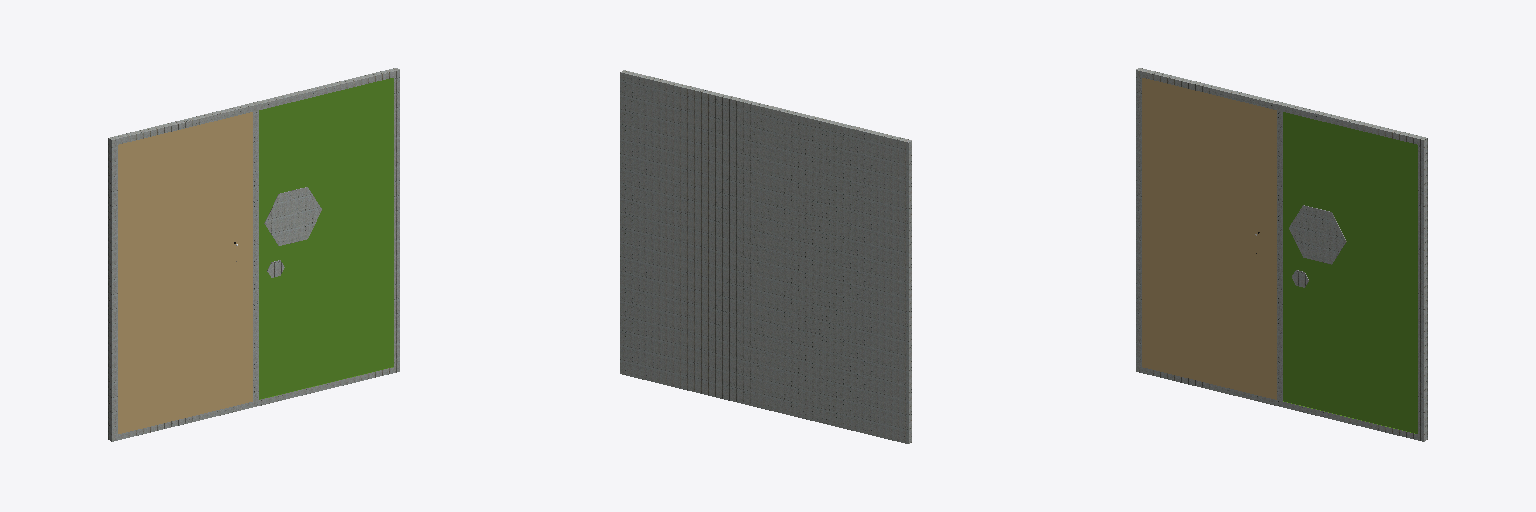
3 views of the same model, side by side, from view 1: azimuth 30°, elevation 25°; view 2: azimuth 150°, elevation 25°; view 3: azimuth 330°, elevation 25° (orthographic).
Visible parts, largest first — view 1: Mesh3 base1 Model, Mesh7 platform_02_1 Model; view 2: Mesh3 base1 Model; view 3: Mesh3 base1 Model, Mesh7 platform_02_1 Model.
Boxes of the visible parts, x1,y1,x2,y2 form: Mesh3 base1 Model: [108, 68, 399, 441]; Mesh7 platform_02_1 Model: [264, 187, 321, 245]; Mesh3 base1 Model: [620, 70, 911, 443]; Mesh3 base1 Model: [1136, 68, 1427, 441]; Mesh7 platform_02_1 Model: [1289, 205, 1346, 264].
Bounding box in the file's own units: 50 × 50 × 2.01.
9 materials, 1 textured.